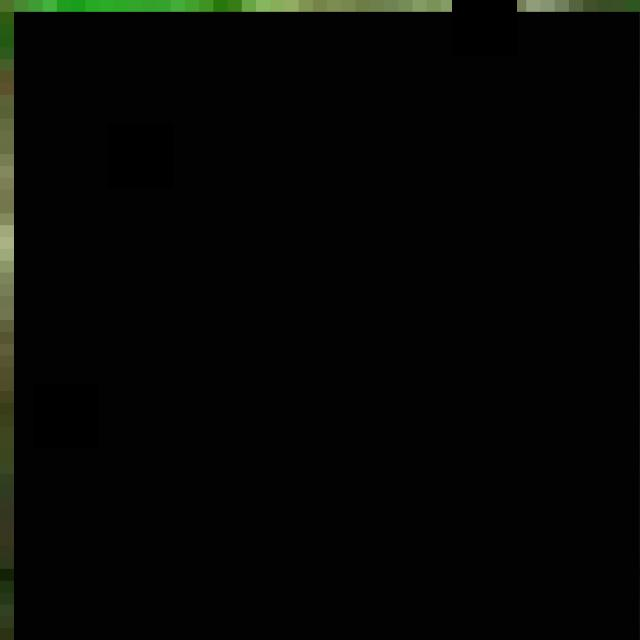nofire: (14, 12, 640, 640)
